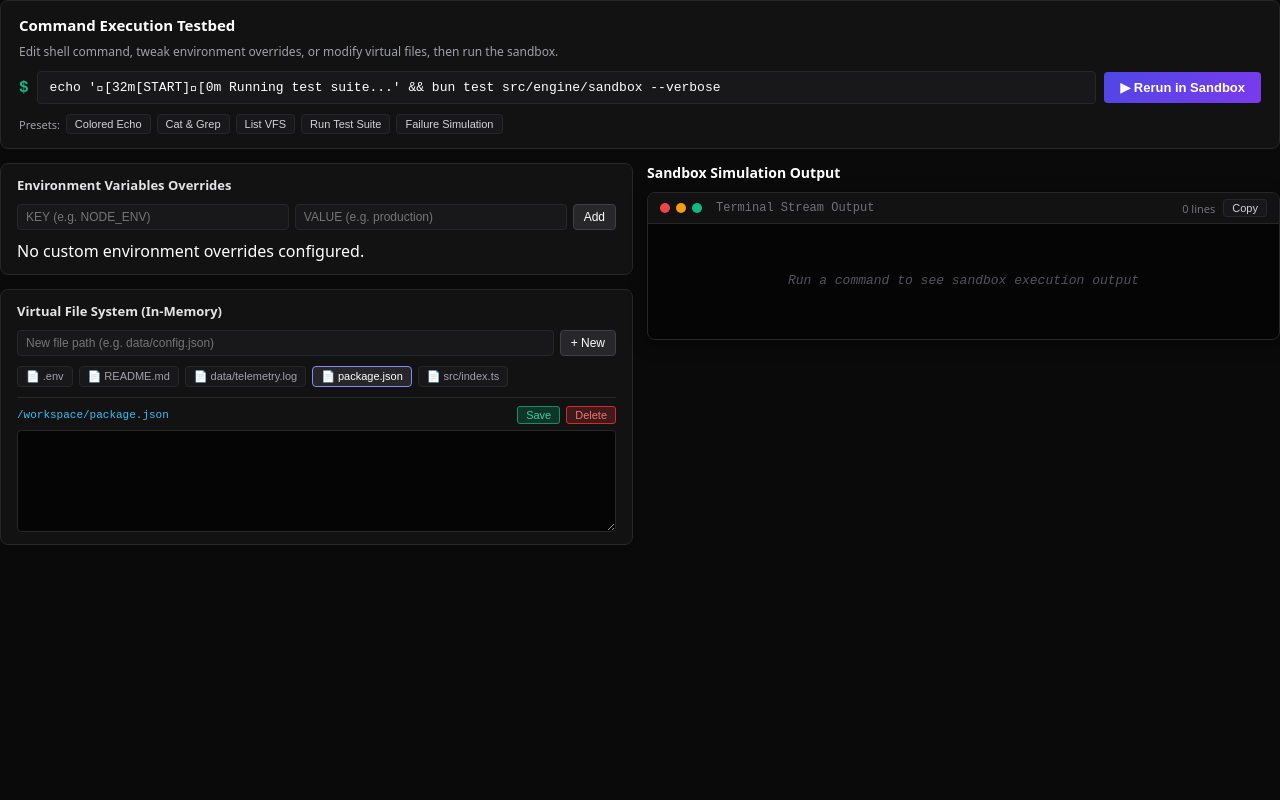
CommandSandbox React UI Components & Integration Tests › MockSandboxPanel Component › allows editing commands, adding env overrides, and running simulated reruns
Replace the text in the field named "Sandbox shell command" with "echo 'custom sandbox test'" at (566, 88), box [37,71,1096,104]
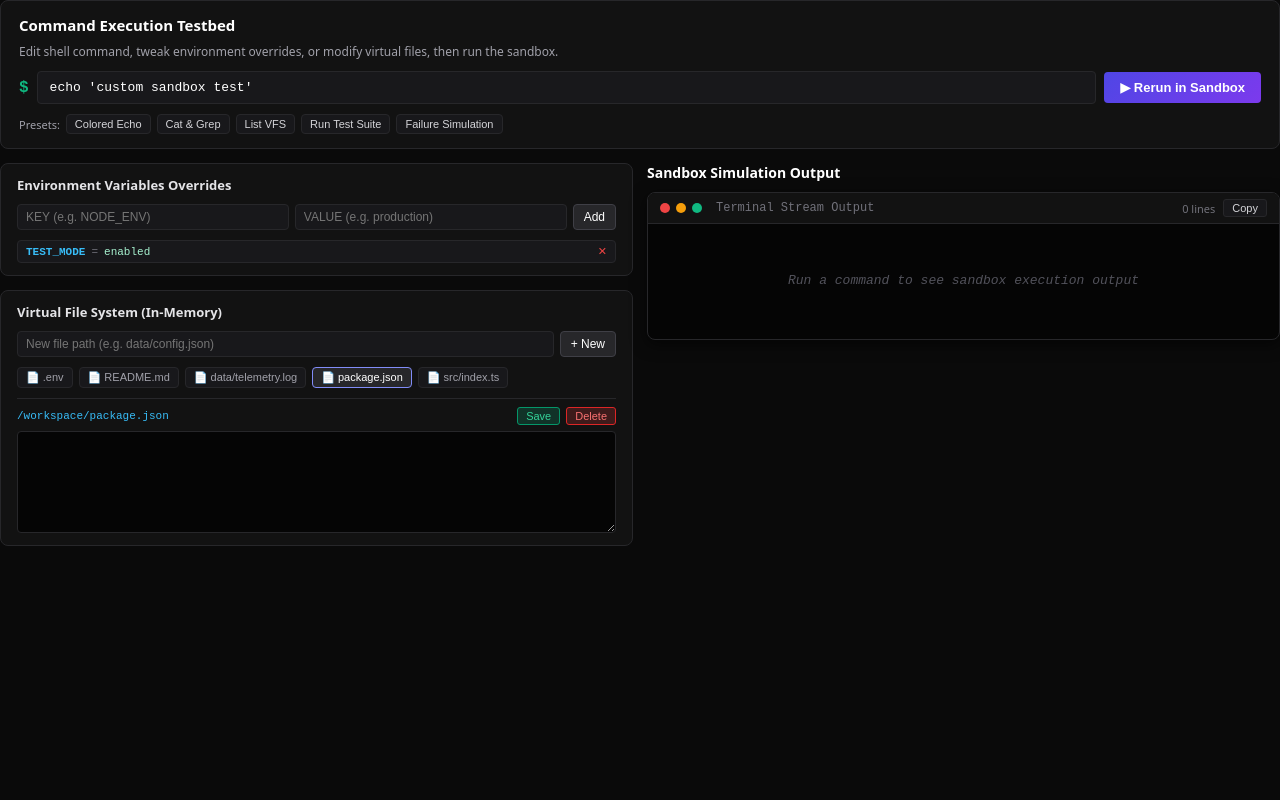
Expected: the text "enabled" is shown, [104,246,150,258]
Click the button "▶ Rerun in Sandbox" at (1183, 88), box [1104,72,1261,103]
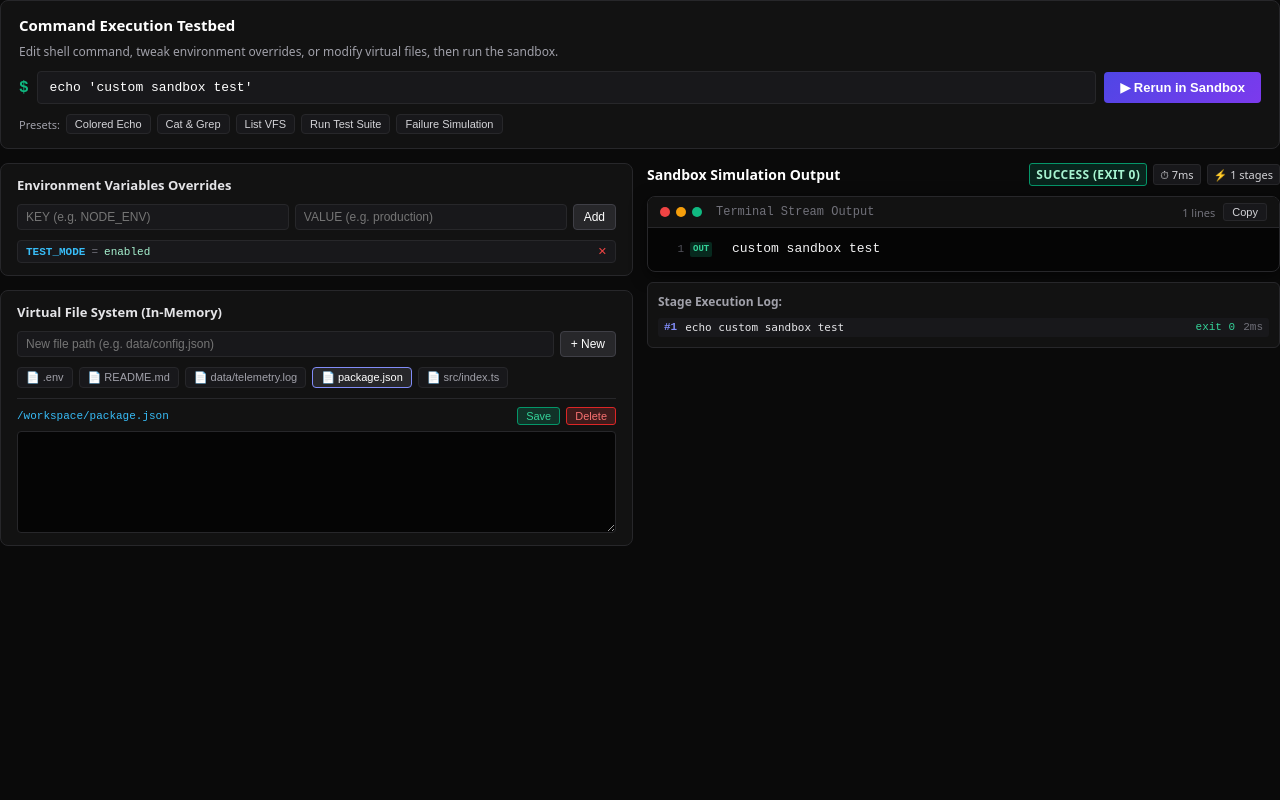
Expected: the text "custom sandbox test" is shown, [732,241,880,256]
